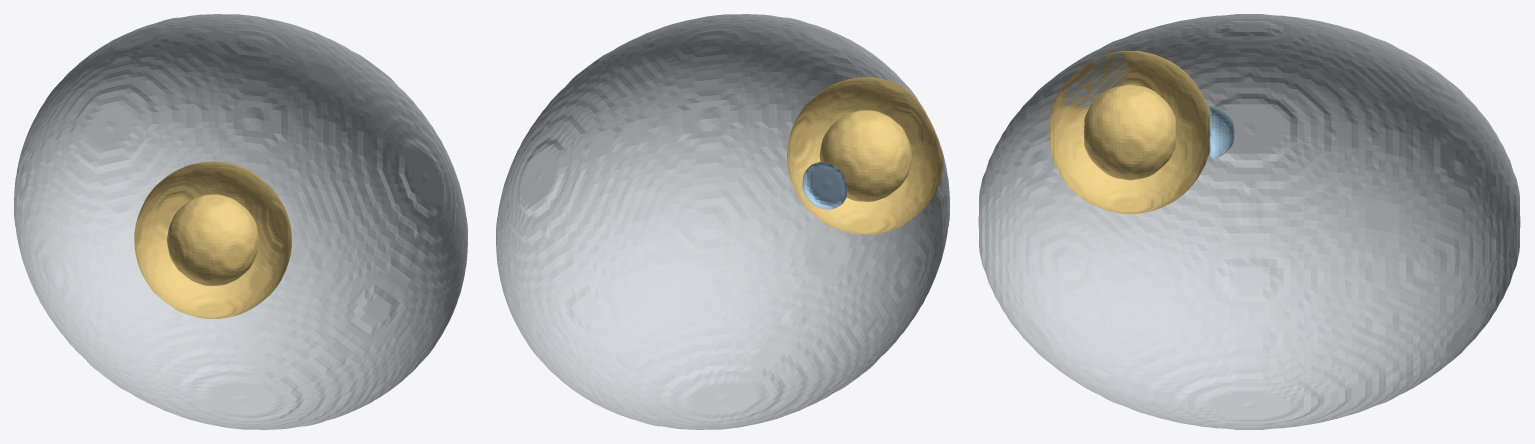
3 views of the same model, side by side, from view 1: azimuth 30°, elevation 25°; view 2: azimuth 150°, elevation 25°; view 3: azimuth 270°, elevation 25° (orthographic). The views are drawn at different scales.
Visible parts, largest first — view 1: brain, edema; view 2: brain, edema, resection_cavity; view 3: brain, edema, resection_cavity.
Part boxes in pixels (x1,y1,x2,y2): brain: [14, 14, 467, 429]; edema: [134, 161, 291, 318]; brain: [496, 14, 949, 429]; edema: [787, 77, 943, 234]; resection_cavity: [802, 162, 847, 209]; brain: [978, 14, 1520, 429]; edema: [1049, 51, 1209, 213]; resection_cavity: [1209, 106, 1234, 158].
Size of the model in its own units: 129 by 119 by 159.
